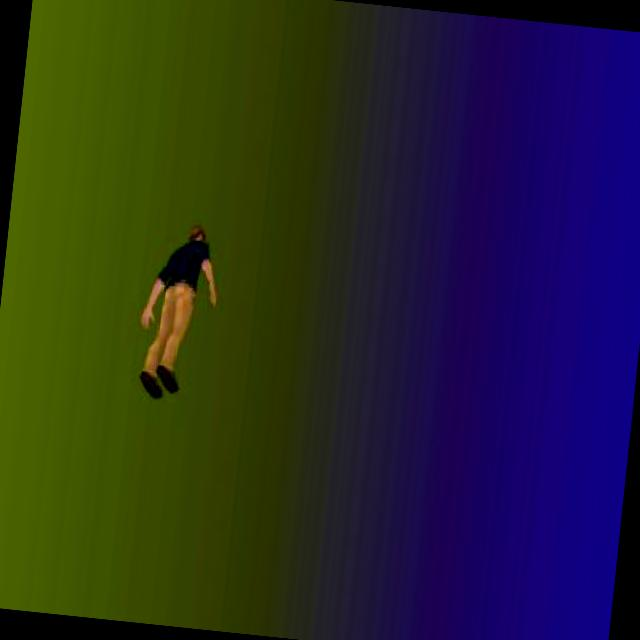Person: (128, 210, 225, 408)
